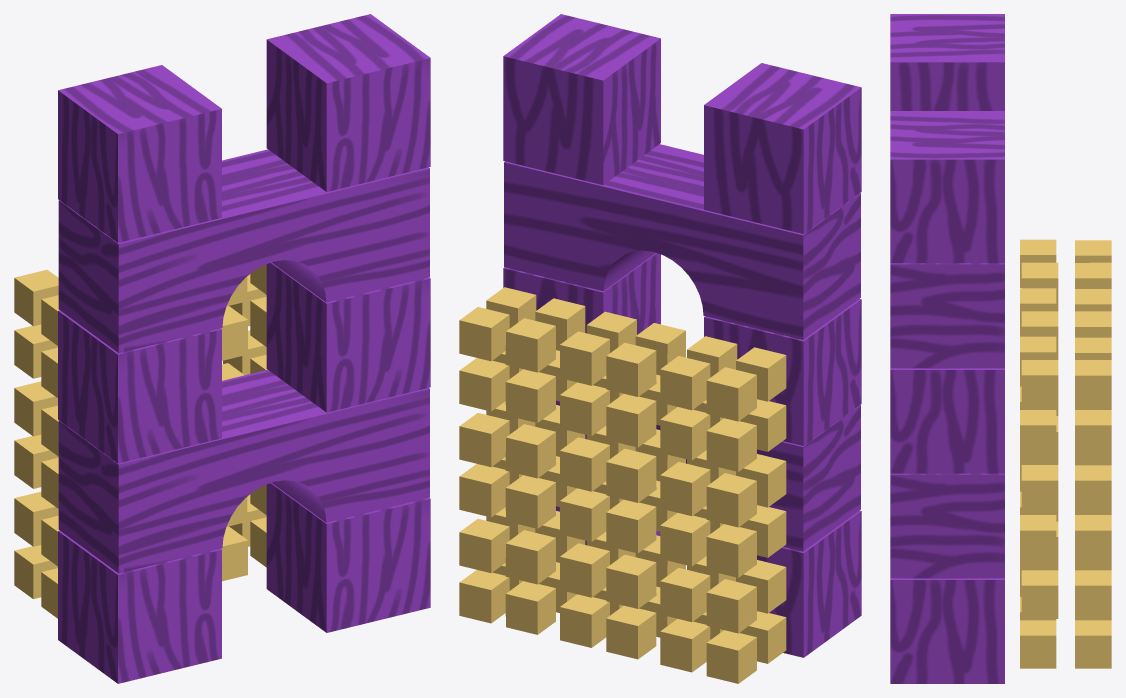
File: Level1-5-TopPart-Cells.fbx
3 views of the same model, side by side, from view 1: azimuth 30°, elevation 25°; view 2: azimuth 150°, elevation 25°; view 3: azimuth 270°, elevation 25° (orthographic). The views are drawn at different scales.
Parts seen in each view (by area): view 1: Cube.004, Cube.001, Cube.008, Cube.007, Cube.003, Cube.006, Cube.002, Cube.005, Cube_cell.060, Cube_cell.012, Cube_cell.036, Cube_cell.037 (+13 smaller); view 2: Cube.004, Cube.007, Cube.008, Cube.005, Cube.002, Cube.001, Cube.006, Cube_cell.052, Cube_cell.060, Cube_cell.012, Cube_cell.036, Cube_cell.004 (+46 smaller); view 3: Cube.008, Cube.001, Cube.003, Cube.004, Cube.006, Cube.007, Cube_cell.018, Cube_cell.042, Cube_cell.066, Cube_cell.016, Cube_cell.017, Cube_cell.019 (+16 smaller).
Part boxes in pixels (x1=…): Cube.004: x1=58, y1=149, x2=429, y2=352; Cube.001: x1=58, y1=369, x2=429, y2=573; Cube.008: x1=266, y1=14, x2=430, y2=191; Cube.007: x1=58, y1=65, x2=221, y2=242; Cube.003: x1=266, y1=483, x2=430, y2=632; Cube.006: x1=266, y1=262, x2=430, y2=412; Cube.002: x1=58, y1=530, x2=221, y2=683; Cube.005: x1=58, y1=310, x2=221, y2=463; Cube_cell.060: x1=14, y1=269, x2=58, y2=326; Cube_cell.012: x1=14, y1=491, x2=58, y2=546; Cube_cell.036: x1=14, y1=381, x2=57, y2=436; Cube_cell.037: x1=14, y1=434, x2=58, y2=488; Cube.004: x1=504, y1=144, x2=860, y2=339; Cube.007: x1=704, y1=63, x2=861, y2=233; Cube.008: x1=503, y1=14, x2=660, y2=184; Cube.005: x1=704, y1=299, x2=861, y2=445; Cube.002: x1=757, y1=510, x2=861, y2=657; Cube.001: x1=556, y1=400, x2=860, y2=551; Cube.006: x1=503, y1=253, x2=660, y2=334; Cube_cell.052: x1=606, y1=342, x2=656, y2=396; Cube_cell.060: x1=706, y1=367, x2=756, y2=421; Cube_cell.012: x1=706, y1=579, x2=756, y2=633; Cube_cell.036: x1=706, y1=473, x2=756, y2=527; Cube_cell.004: x1=606, y1=554, x2=656, y2=608; Cube.008: x1=890, y1=111, x2=1004, y2=263; Cube.001: x1=890, y1=473, x2=1004, y2=578; Cube.003: x1=890, y1=578, x2=1004, y2=683; Cube.004: x1=890, y1=263, x2=1004, y2=368; Cube.006: x1=890, y1=368, x2=1004, y2=473; Cube.007: x1=890, y1=14, x2=1004, y2=110; Cube_cell.018: x1=1021, y1=570, x2=1058, y2=618; Cube_cell.042: x1=1021, y1=465, x2=1058, y2=513; Cube_cell.066: x1=1021, y1=360, x2=1058, y2=408; Cube_cell.016: x1=1075, y1=570, x2=1111, y2=618; Cube_cell.017: x1=1075, y1=620, x2=1111, y2=668; Cube_cell.019: x1=1020, y1=620, x2=1056, y2=668.
Size of the model in its own units: 601 by 1010 by 386.
